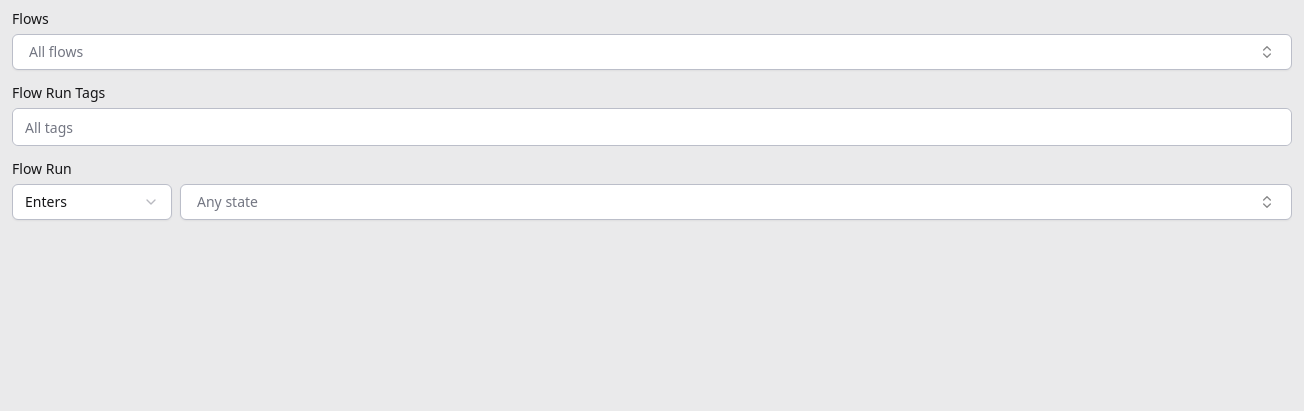
Test case: FlowRunStateTriggerFields › shows For field with DurationInput when posture is Proactive
Step 1. Click the dropdown named "select posture" → (92, 202), box [12,184,172,220]
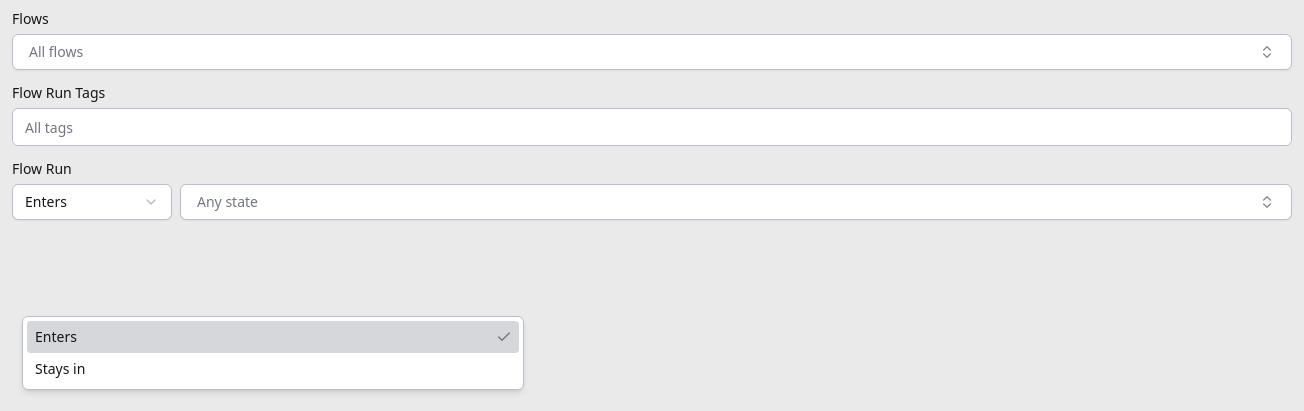
Step 2. Click the option "Stays in" → (60, 368), box [35,359,85,378]
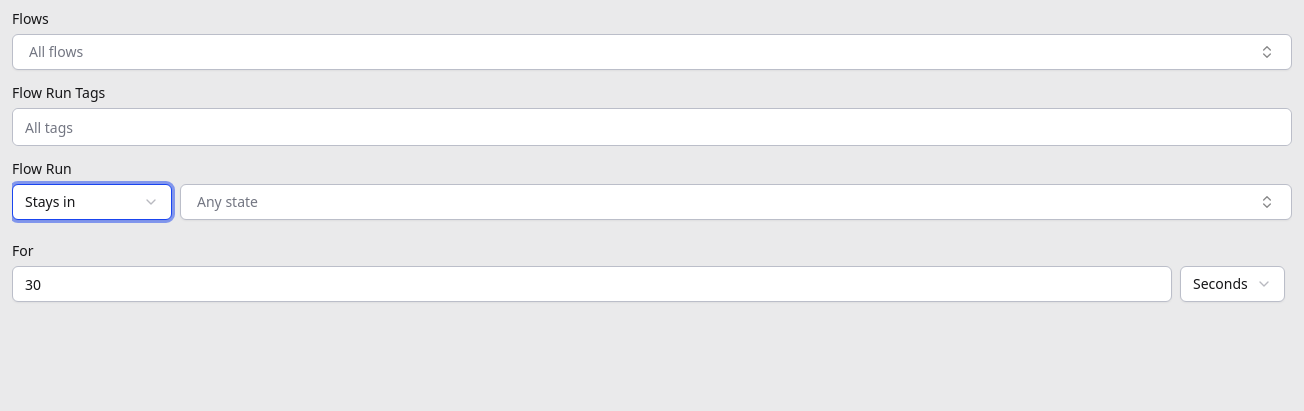
Expected: the text "For" is shown, [12,241,34,260]
Expected: the number field named "Duration quantity" is shown, [12,266,1172,302]
Expected: the dropdown named "Duration unit" is shown, [1180,266,1285,302]
